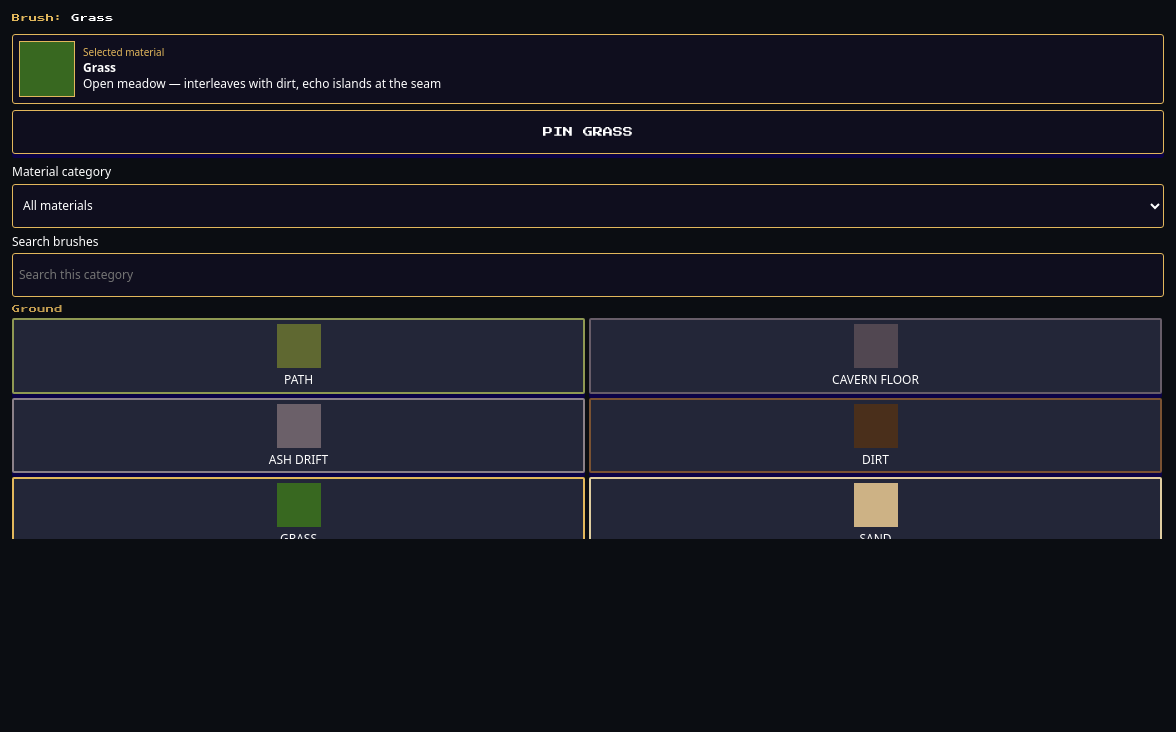
Test: MapEditBrushDeck › hover reveals the family's grammar note
The image size is (1176, 732).
Hover over the button titled "Dirt".
mouse_move(876, 436)  # box [589,398,1162,473]
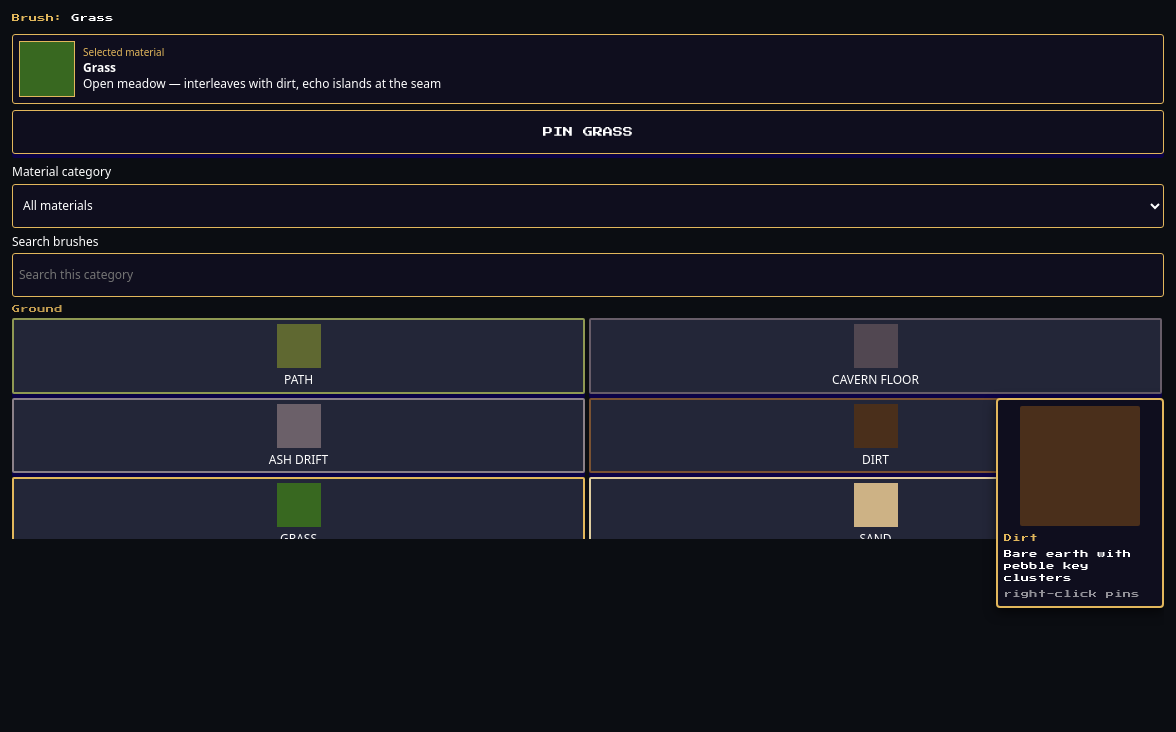
Result: the text "Bare earth with pebble key clusters" is shown at [1004,550,1132,582]
Move the pointer off the button titled "Dirt", box [589,398,1162,473]
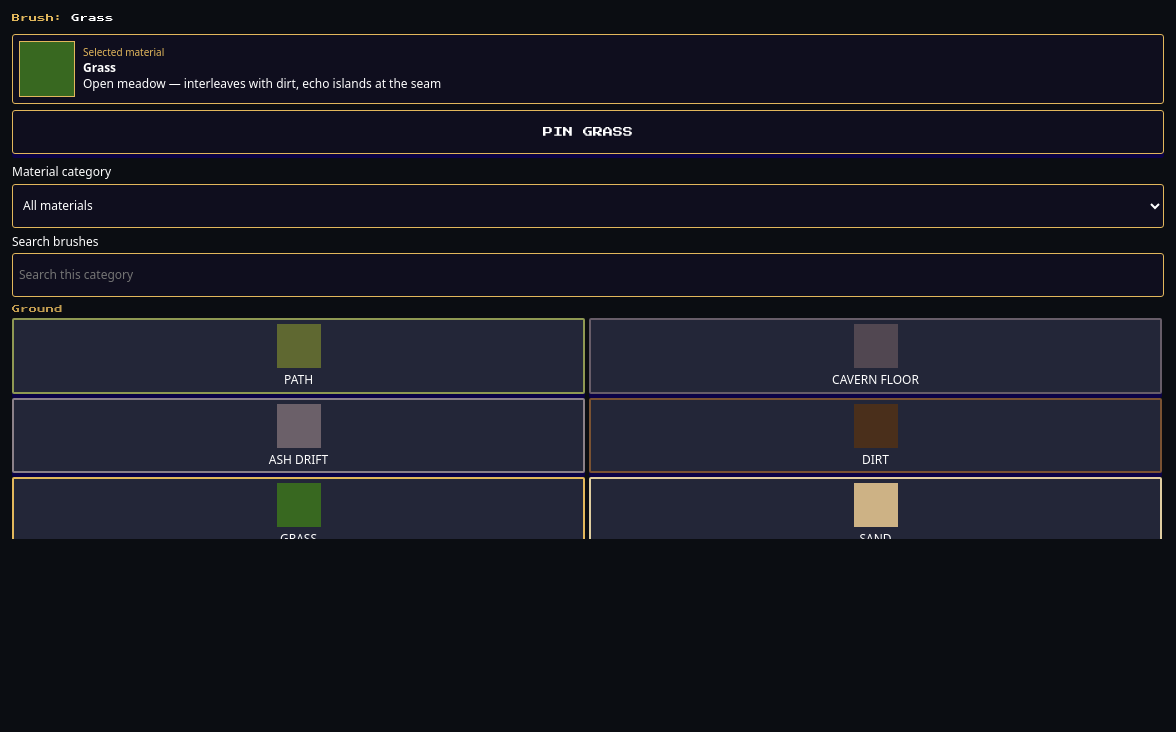
Result: the text "Bare earth with pebble key clusters" is gone
